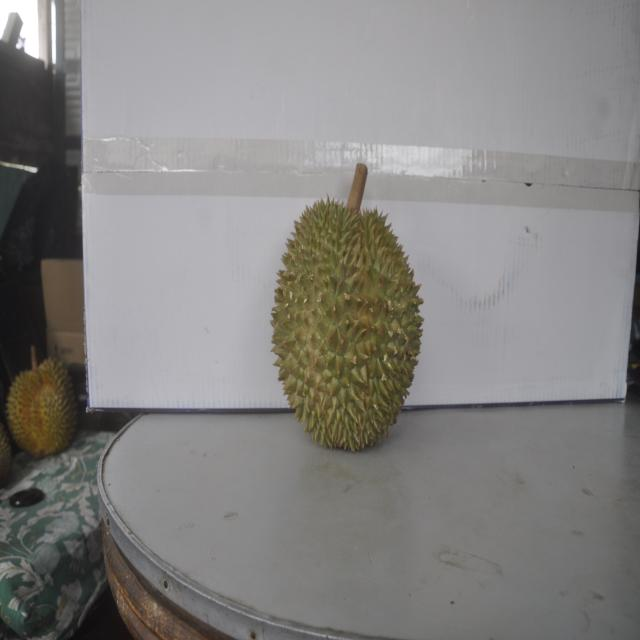mature: (270, 185, 423, 453), (6, 352, 78, 458)
